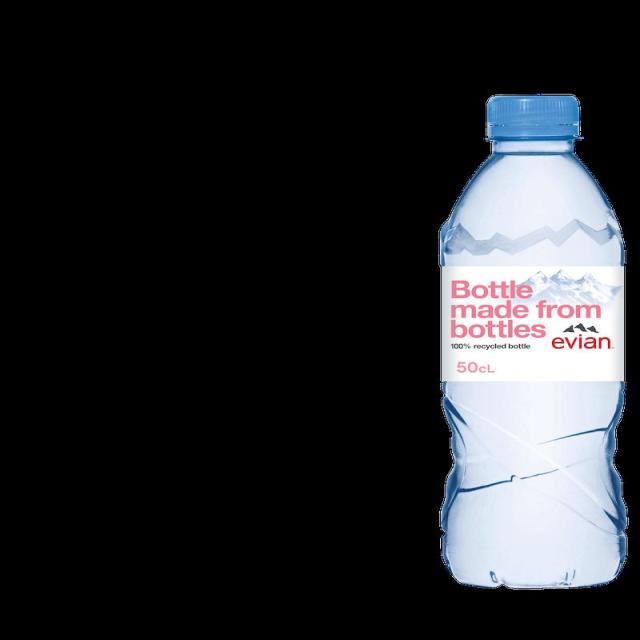bottle: (430, 89, 640, 608)
